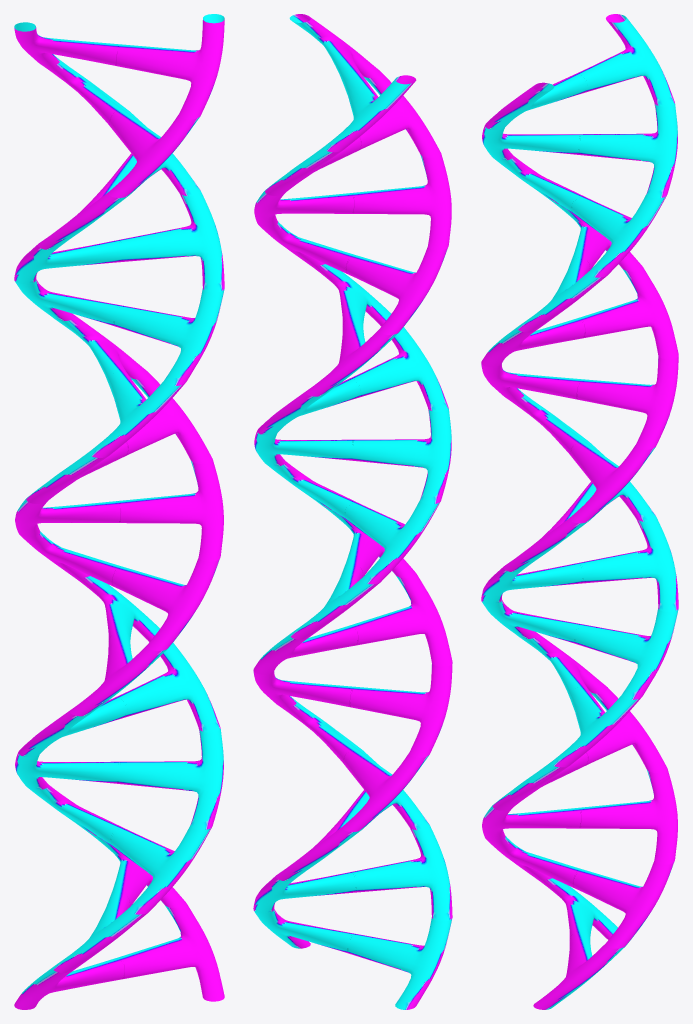
The model's file is DNA.glb.
3 renders of one model, left to right at view 1: azimuth 30°, elevation 25°; view 2: azimuth 150°, elevation 25°; view 3: azimuth 270°, elevation 25°, orthographic. The views are drawn at different scales.
Visible parts, largest first — view 1: Cube.001; view 2: Cube.001; view 3: Cube.001.
Part boxes in pixels (x1,y1,x2,y2): Cube.001: [14, 14, 224, 1009]; Cube.001: [253, 14, 452, 1009]; Cube.001: [481, 14, 678, 1009].
Bounding box in the file's own units: 17.64 × 90 × 17.55.
Materials: 1 (1 with a texture image).
